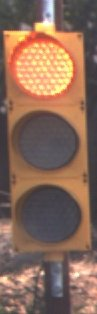Red: (2, 25, 96, 277)
